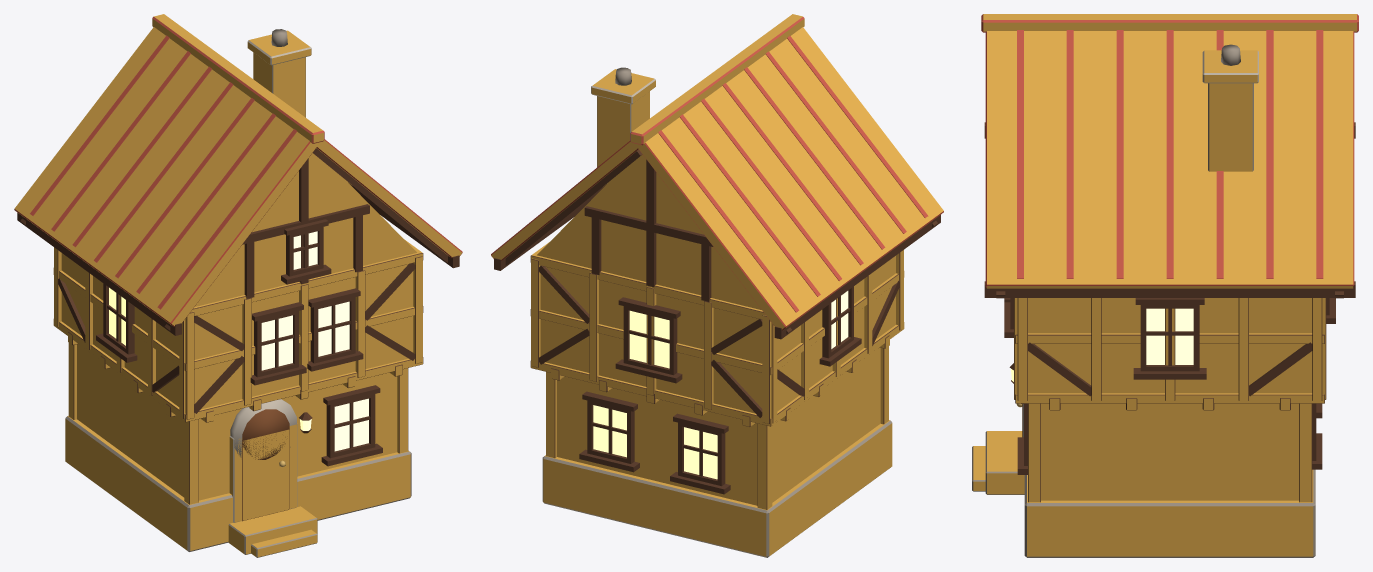
Rendered from house_ochre_timber.glb.
3 views of the same model, side by side, from view 1: azimuth 30°, elevation 25°; view 2: azimuth 150°, elevation 25°; view 3: azimuth 270°, elevation 25° (orthographic). The views are drawn at different scales.
Visible parts, largest first — view 1: house_ochre_timber; view 2: house_ochre_timber; view 3: house_ochre_timber.
Part boxes in pixels (x1,y1,x2,y2): house_ochre_timber: (14, 14, 462, 557); house_ochre_timber: (491, 14, 943, 557); house_ochre_timber: (972, 14, 1358, 557).
Size of the model in its own units: 6.19 by 8.36 by 6.05.
